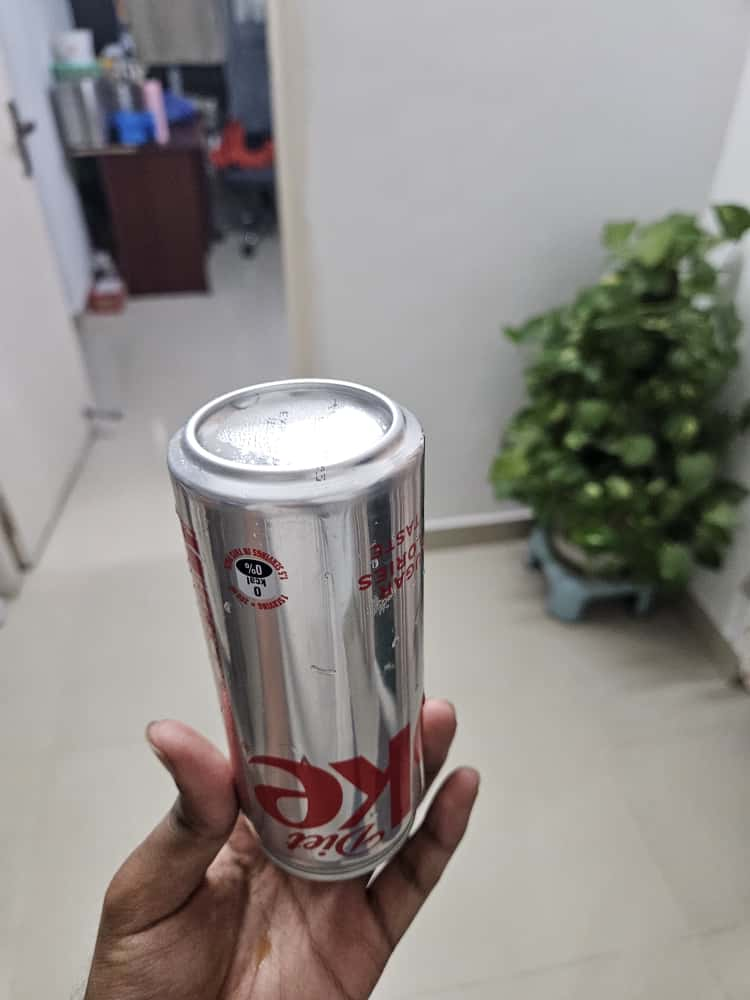dry: (174, 361, 454, 881)
